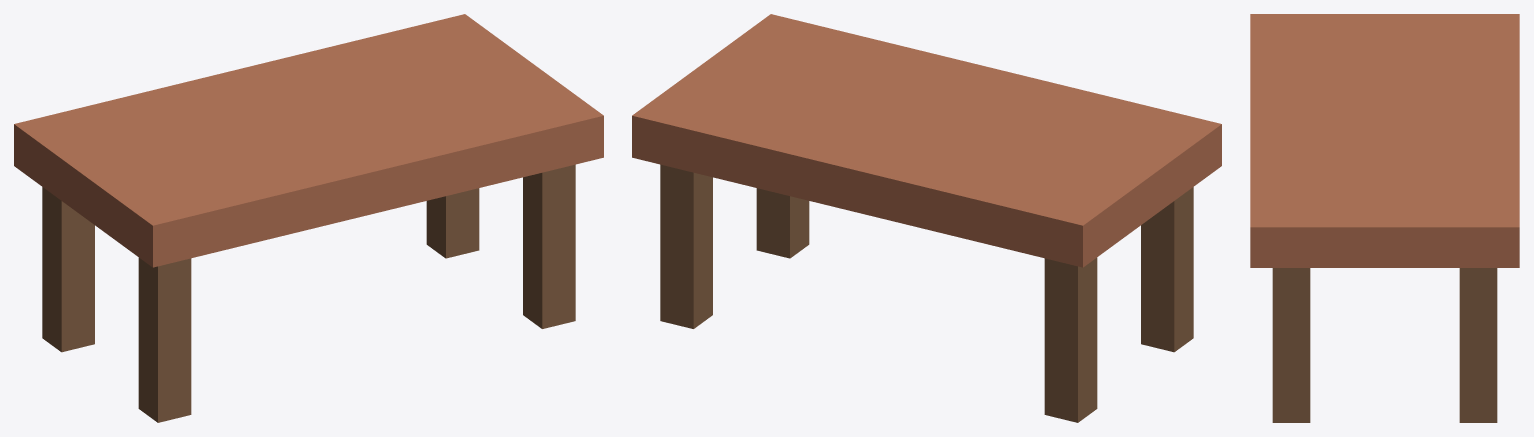
The model's file is prop_table.glb.
The picture shows the model from 3 angles, left to right: view 1: azimuth 30°, elevation 25°; view 2: azimuth 150°, elevation 25°; view 3: azimuth 270°, elevation 25°; orthographic projection. The views are drawn at different scales.
Visible parts, largest first — view 1: prop_table; view 2: prop_table; view 3: prop_table.
Part boxes in pixels (x1,y1,x2,y2): prop_table: [14, 14, 603, 422]; prop_table: [632, 14, 1221, 422]; prop_table: [1250, 14, 1519, 422].
Bounding box in the file's own units: 1.35 × 0.6 × 0.72.
1 material, 1 textured.
